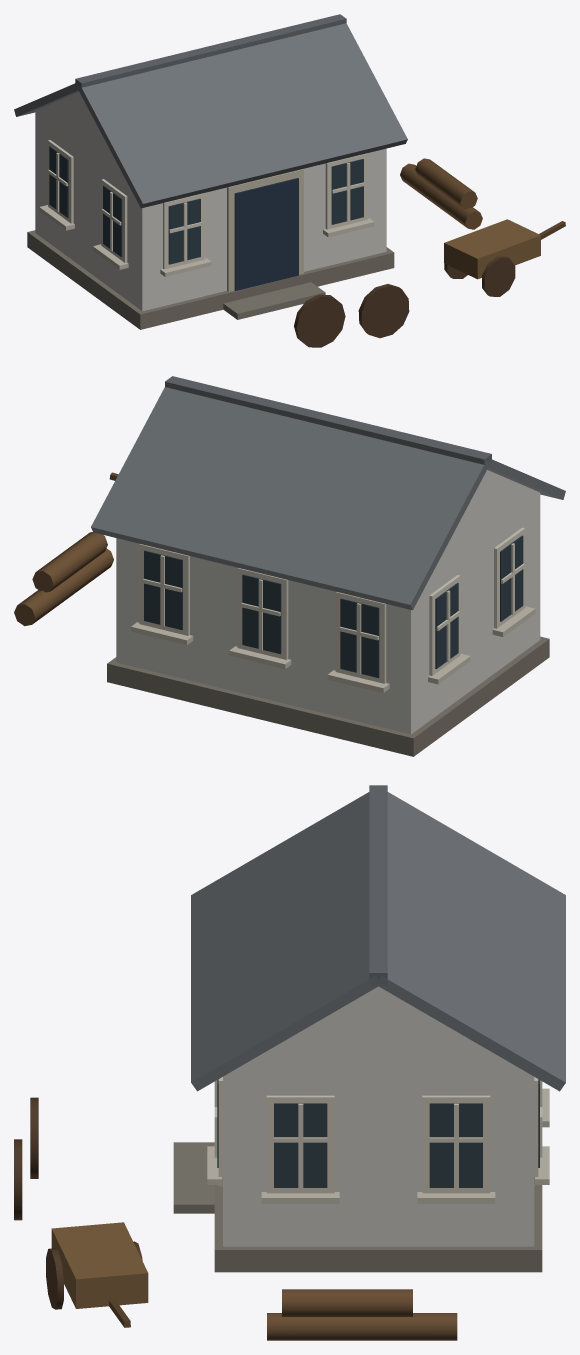
The model's file is procedural_cartwright@6.glb.
The picture shows the model from 3 angles, top to bottom: view 1: azimuth 30°, elevation 25°; view 2: azimuth 150°, elevation 25°; view 3: azimuth 270°, elevation 25°; orthographic projection. The views are drawn at different scales.
Parts seen in each view (by area): view 1: part_0; view 2: part_0; view 3: part_0.
Part boxes in pixels (<box>): part_0: <box>14,14,565,347</box>; part_0: <box>14,376,565,756</box>; part_0: <box>14,785,565,1340</box>.
Size of the model in its own units: 8.18 by 4.08 by 6.74.
